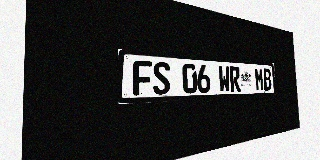0: (182, 63, 197, 94)
6: (197, 64, 211, 93)
B: (263, 68, 272, 91)
F: (133, 60, 152, 96)
M: (254, 68, 264, 91)
R: (229, 66, 241, 92)
S: (153, 61, 170, 95)
W: (218, 66, 230, 92)
